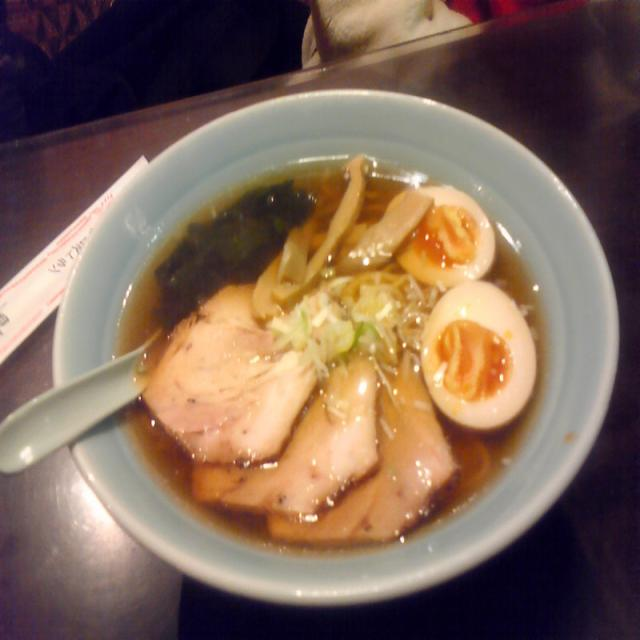面条主食: (106, 149, 548, 542)
